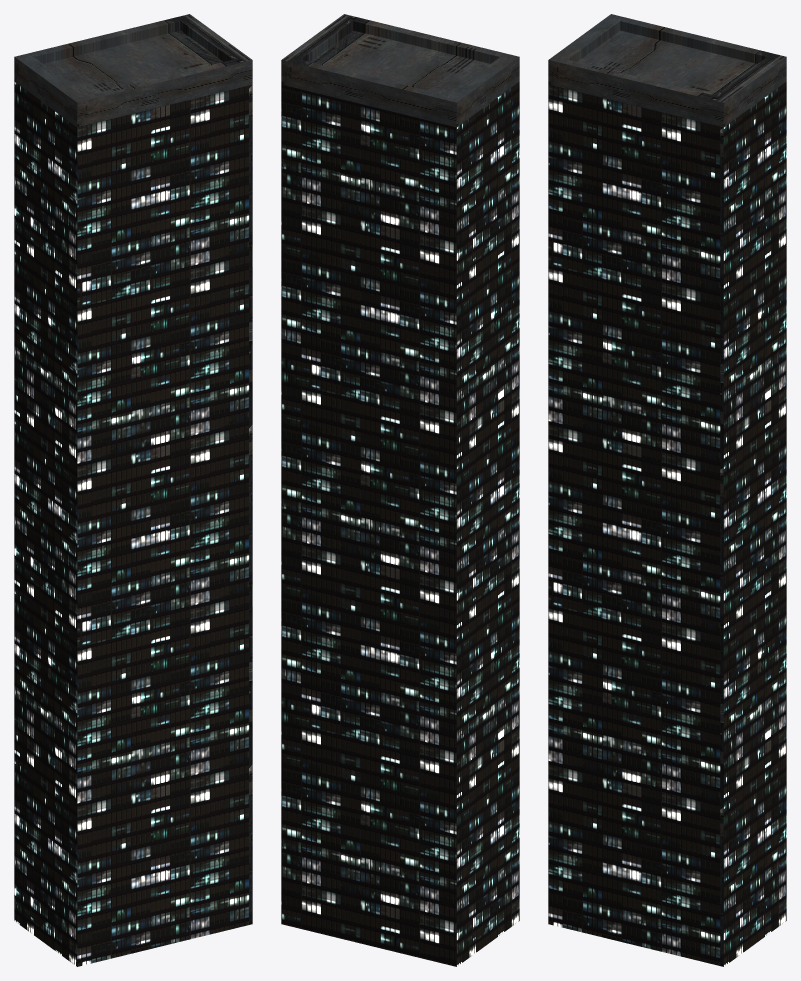
The model's file is synth-remixed-next-skyscraper2.glb.
3 renders of one model, left to right at view 1: azimuth 30°, elevation 25°; view 2: azimuth 150°, elevation 25°; view 3: azimuth 330°, elevation 25°, orthographic.
Parts seen in each view (by area): view 1: Cube.005; view 2: Cube.005; view 3: Cube.005.
Part boxes in pixels (x1,y1,x2,y2): Cube.005: (14,14,252,966); Cube.005: (281,14,519,966); Cube.005: (548,14,786,966).
Size of the model in its own units: 17.45 by 82.21 by 10.82.
Materials: 1 (1 with a texture image).
